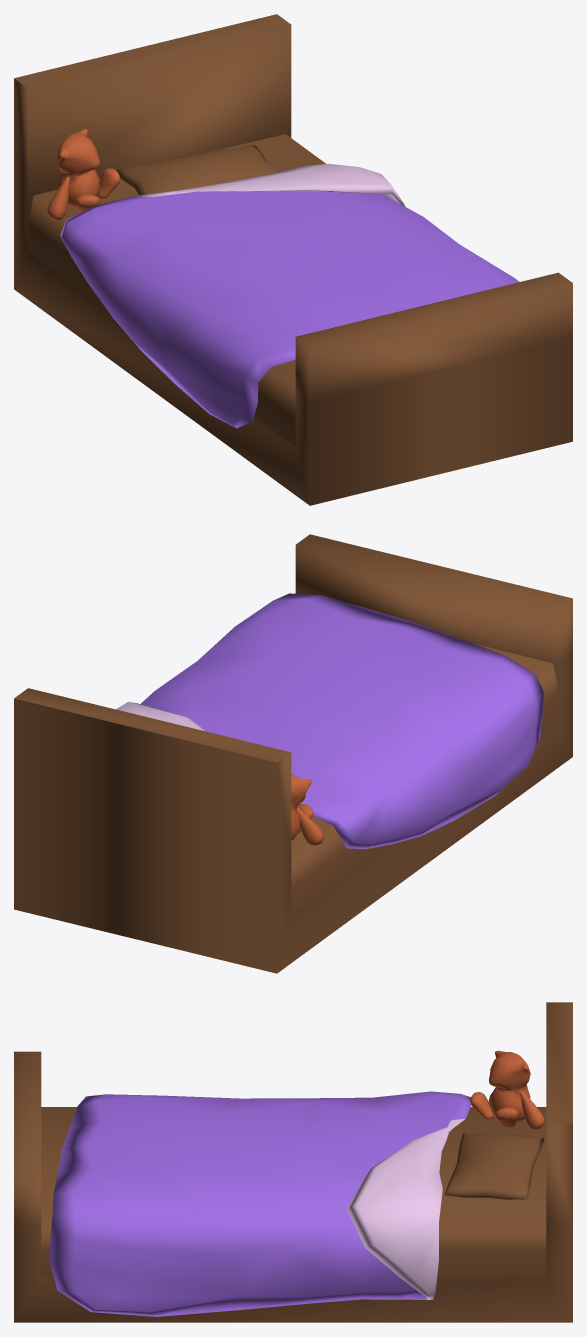
The model's file is Bed.fbx.
3 views of the same model, one above another, from view 1: azimuth 30°, elevation 25°; view 2: azimuth 150°, elevation 25°; view 3: azimuth 270°, elevation 25° (orthographic). The views are drawn at different scales.
Visible parts, largest first — view 1: Bed; view 2: Bed; view 3: Bed.
Boxes of the visible parts, x1,y1,x2,y2 form: Bed: (14, 14, 572, 505); Bed: (14, 534, 572, 973); Bed: (14, 1002, 572, 1322).
Bounding box in the file's own units: 124 × 82.64 × 210.
